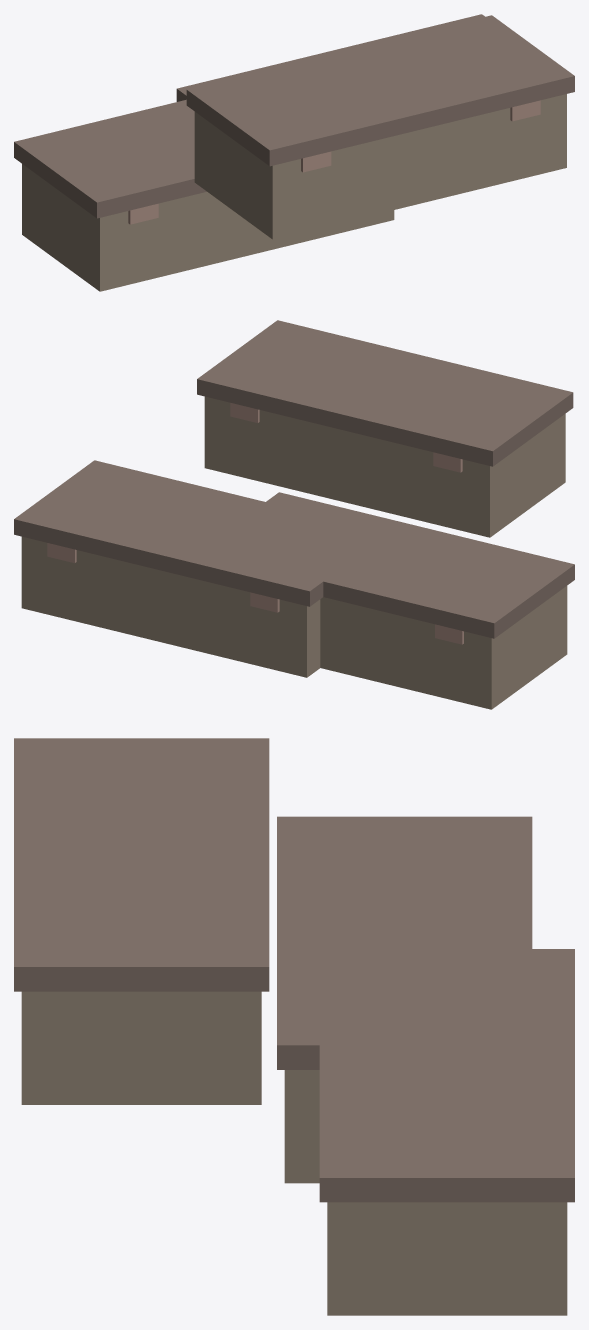
The model's file is sealed_coffin_stack.glb.
3 renders of one model, top to bottom at view 1: azimuth 30°, elevation 25°; view 2: azimuth 150°, elevation 25°; view 3: azimuth 270°, elevation 25°, orthographic. The views are drawn at different scales.
Visible parts, largest first — view 1: sealed_coffin_stack_material_01, sealed_coffin_stack_material_00, sealed_coffin_stack_material_02; view 2: sealed_coffin_stack_material_01, sealed_coffin_stack_material_00, sealed_coffin_stack_material_02; view 3: sealed_coffin_stack_material_01, sealed_coffin_stack_material_00.
Boxes of the visible parts, bbox=[...] form: sealed_coffin_stack_material_01: bbox=[14, 14, 574, 218]; sealed_coffin_stack_material_00: bbox=[22, 94, 566, 291]; sealed_coffin_stack_material_02: bbox=[128, 100, 540, 224]; sealed_coffin_stack_material_01: bbox=[14, 320, 574, 638]; sealed_coffin_stack_material_00: bbox=[21, 396, 567, 709]; sealed_coffin_stack_material_02: bbox=[47, 403, 463, 644]; sealed_coffin_stack_material_01: bbox=[14, 738, 574, 1202]; sealed_coffin_stack_material_00: bbox=[21, 991, 567, 1315].
Bounding box in the file's own units: 2.21 × 0.815 × 1.45.
